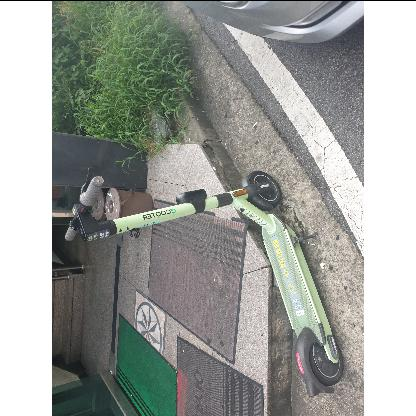bike: (64, 169, 344, 398)
